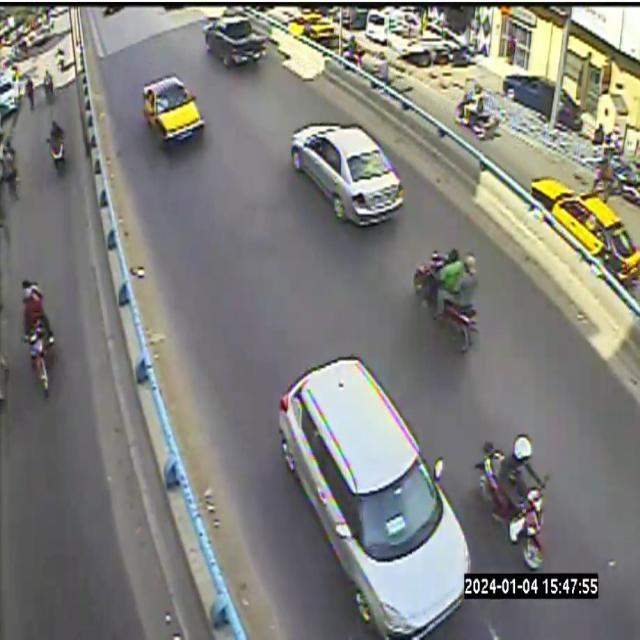car: (279, 107, 415, 236), (287, 115, 404, 245), (531, 172, 639, 290), (531, 177, 639, 286), (291, 123, 403, 228)
